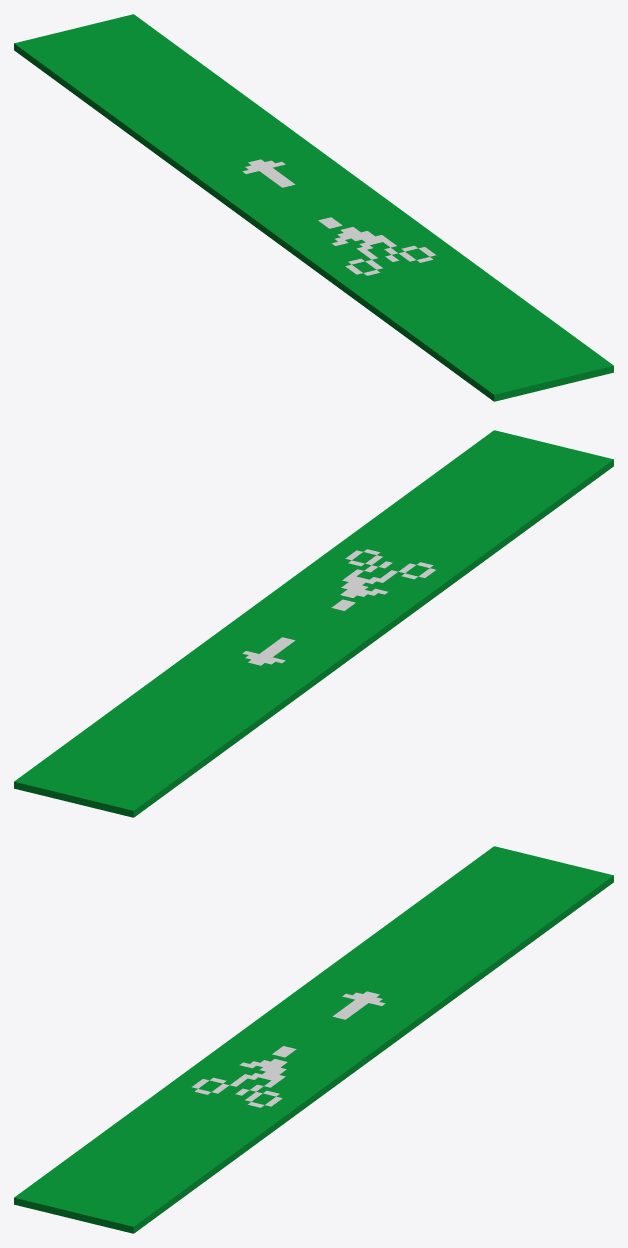
Rendered from bike-lane.obj.
3 views of the same model, one above another, from view 1: azimuth 30°, elevation 25°; view 2: azimuth 150°, elevation 25°; view 3: azimuth 330°, elevation 25° (orthographic).
Size of the model in its own units: 18 by 1 by 125.
